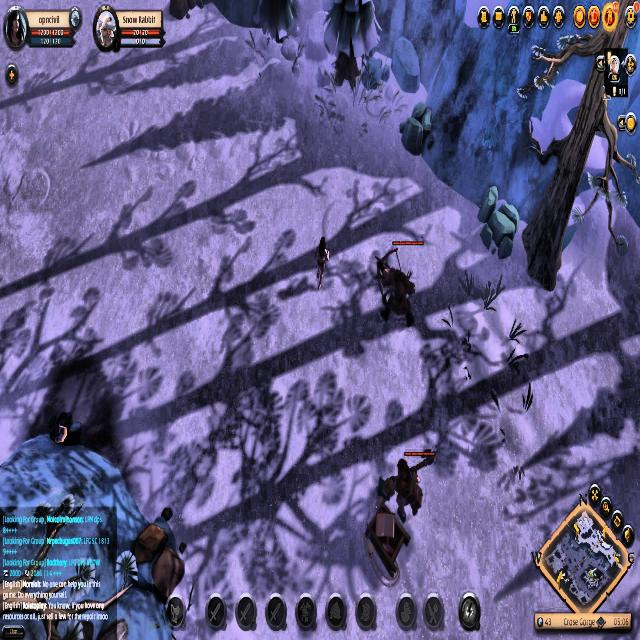cotton: (48, 406, 82, 461)
mob: (374, 232, 426, 335), (382, 435, 437, 525)
sandstone: (478, 184, 522, 265), (401, 104, 436, 161)
